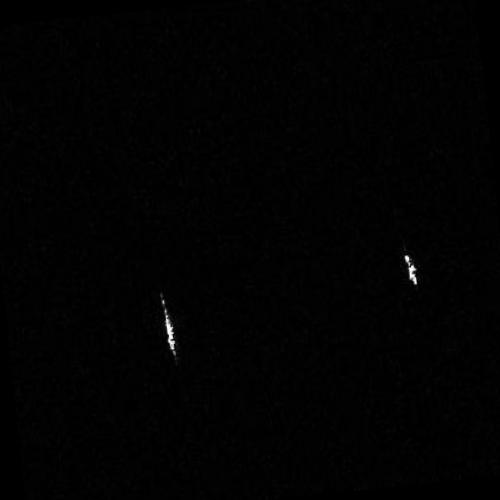ship: (160, 299, 178, 358), (402, 252, 418, 287)
